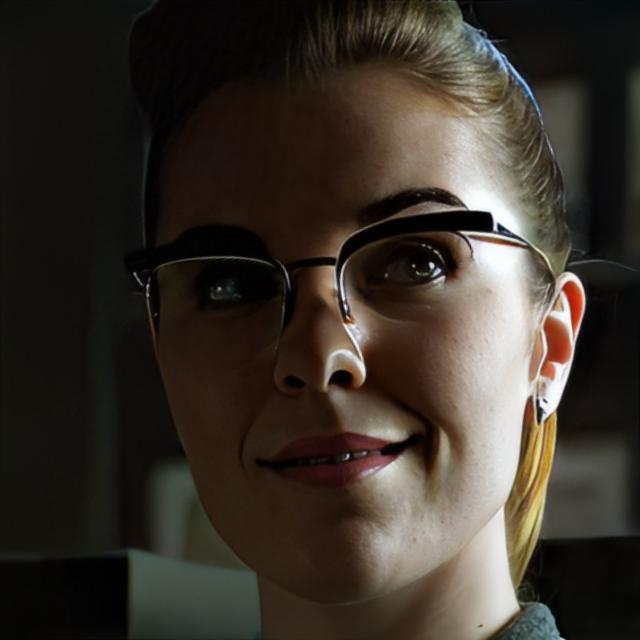content: (150, 70, 536, 599)
